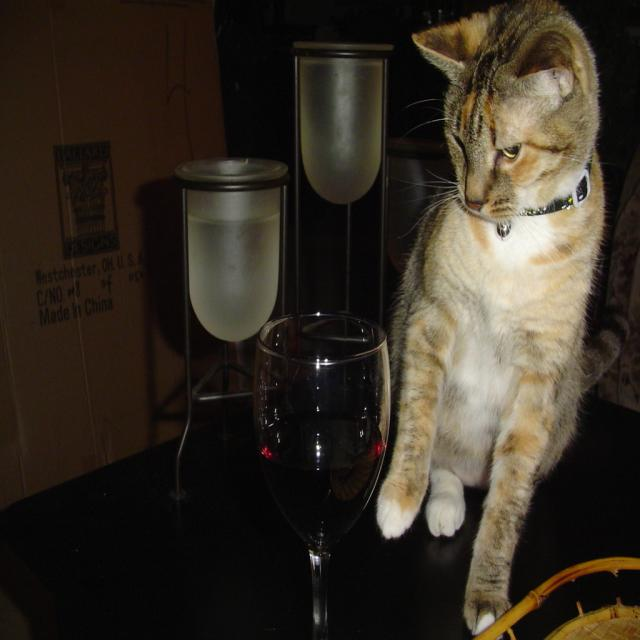Cat: (373, 0, 633, 638)
